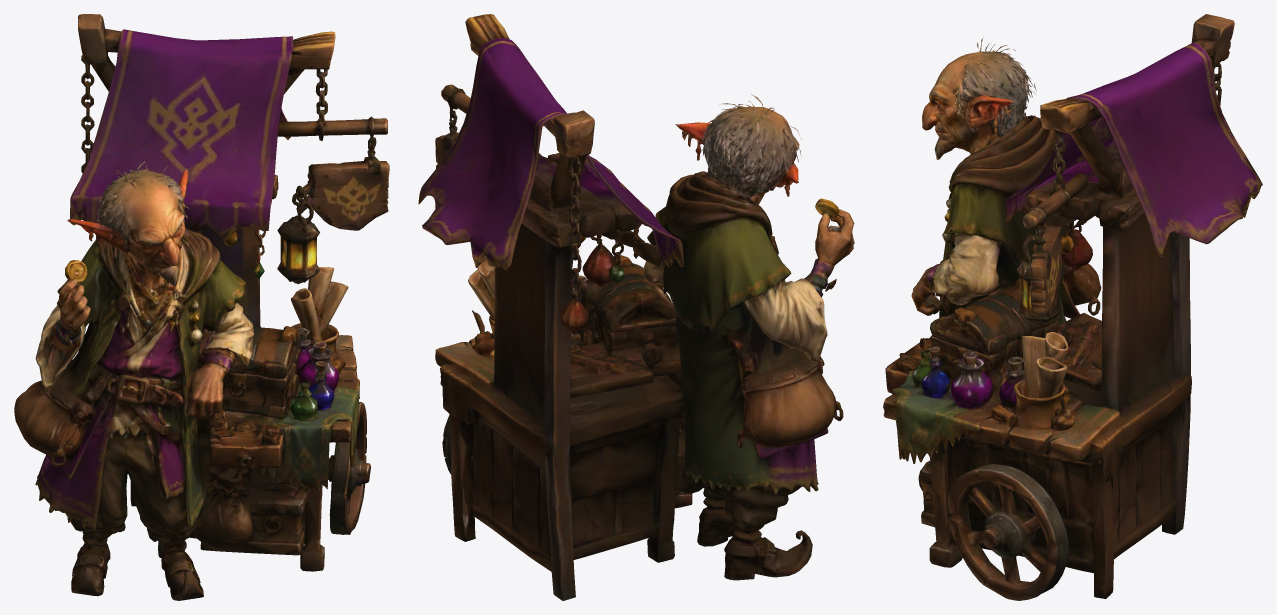
The model's file is gnomemerchant.glb.
3 renders of one model, left to right at view 1: azimuth 30°, elevation 25°; view 2: azimuth 150°, elevation 25°; view 3: azimuth 270°, elevation 25°, orthographic. The views are drawn at different scales.
Parts seen in each view (by area): view 1: mesh_node; view 2: mesh_node; view 3: mesh_node.
Part boxes in pixels (box(x1,y1,x2,y2)): mesh_node: box(14, 14, 389, 600); mesh_node: box(418, 14, 854, 600); mesh_node: box(883, 14, 1262, 600).
Size of the model in its own units: 1.53 by 1.9 by 1.32.
Materials: 1 (1 with a texture image).
